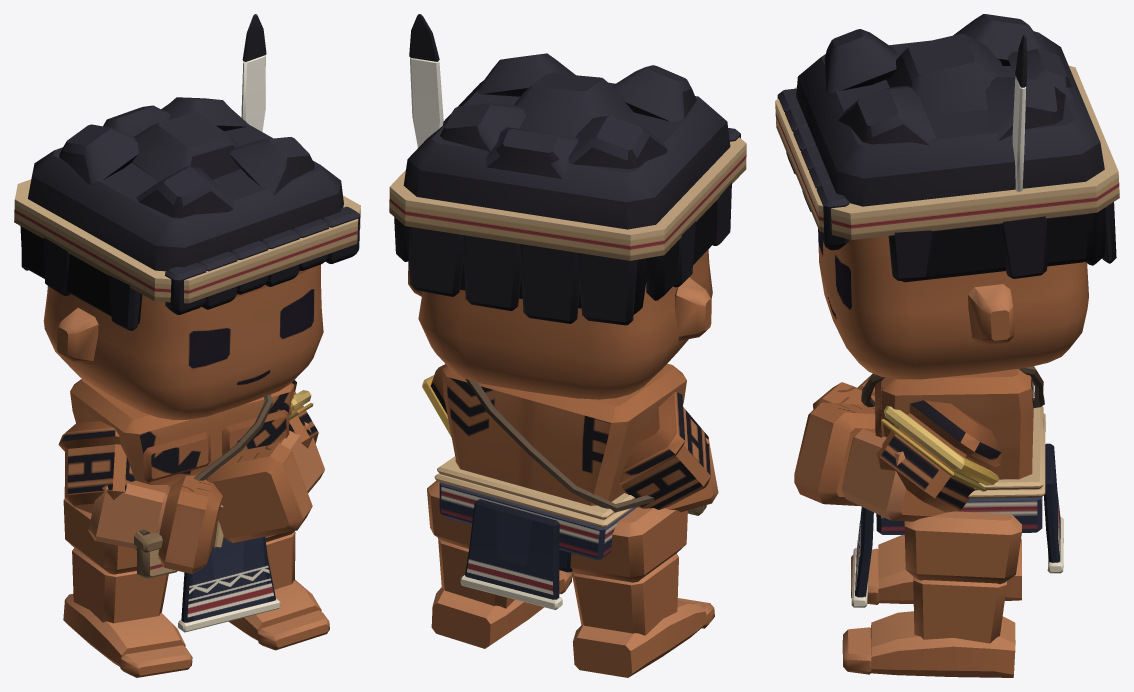
Rendered from audience_v2_young_man_stand.glb.
3 renders of one model, left to right at view 1: azimuth 30°, elevation 25°; view 2: azimuth 150°, elevation 25°; view 3: azimuth 270°, elevation 25°, orthographic. The views are drawn at different scales.
Parts seen in each view (by area): view 1: audience_v2_young_man_stand; view 2: audience_v2_young_man_stand; view 3: audience_v2_young_man_stand.
Part boxes in pixels (x1,y1,x2,y2): audience_v2_young_man_stand: [14, 14, 360, 677]; audience_v2_young_man_stand: [389, 14, 746, 677]; audience_v2_young_man_stand: [775, 14, 1119, 677].
Size of the model in its own units: 0.3746 by 0.7822 by 0.3748.
1 material, 1 textured.
